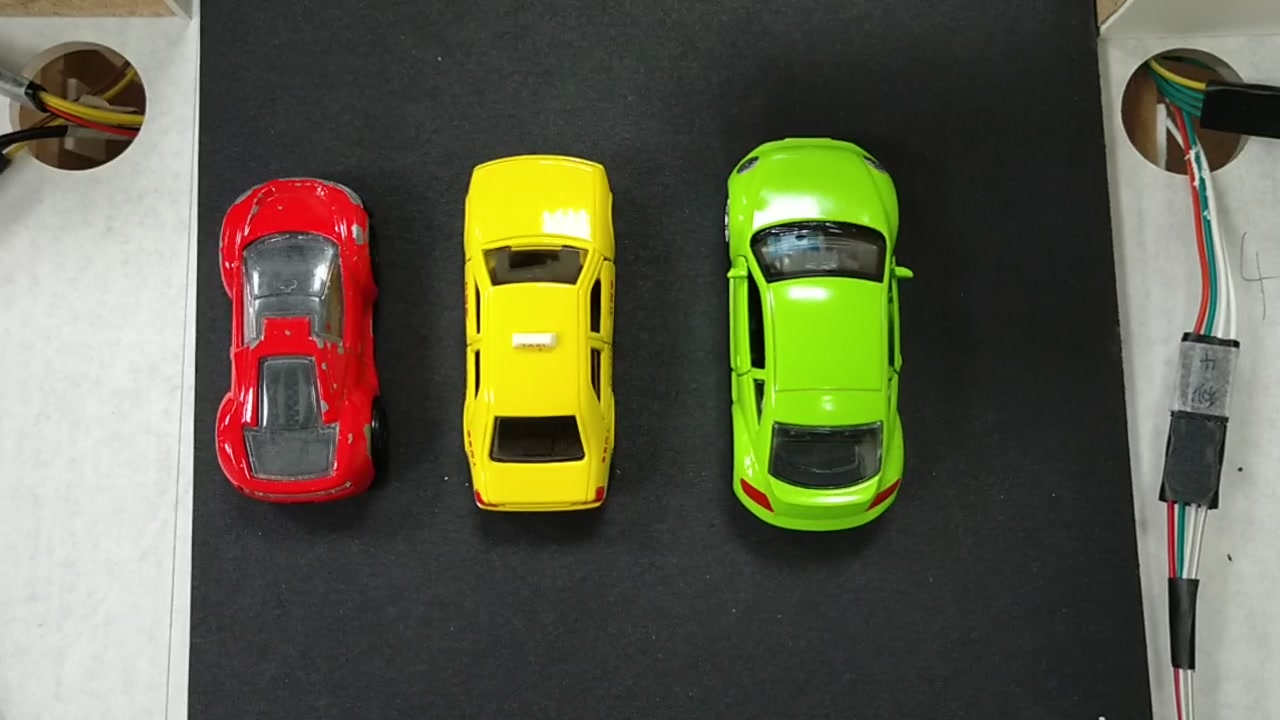car: (727, 149, 910, 521), (463, 160, 616, 511), (217, 192, 378, 499)
